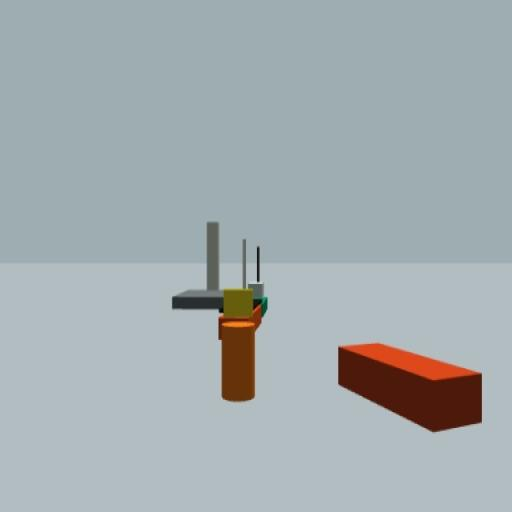buoy: (222, 286, 257, 404)
debris_container: (338, 341, 484, 434)
platform: (172, 221, 244, 310)
